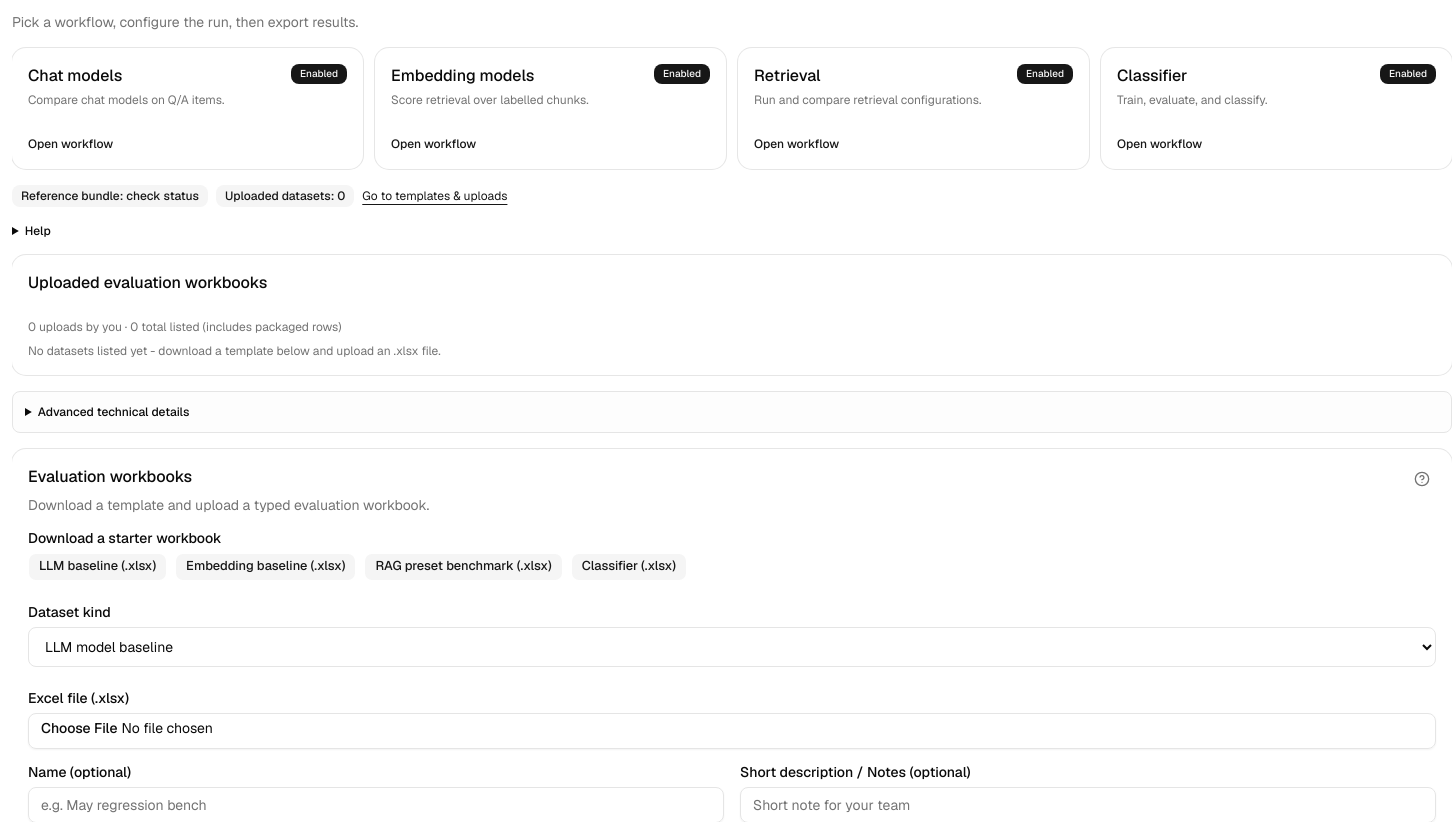
Test: LabOverviewPage › does not surface compose observability filenames in developer diagnostics
The width and height of the screenshot is (1452, 822).
Expected: the text "LLM & RAG evaluations" is not shown
Click the heading "Advanced technical details".
click(114, 412)  # box x1=38 y1=404 x2=189 y2=420
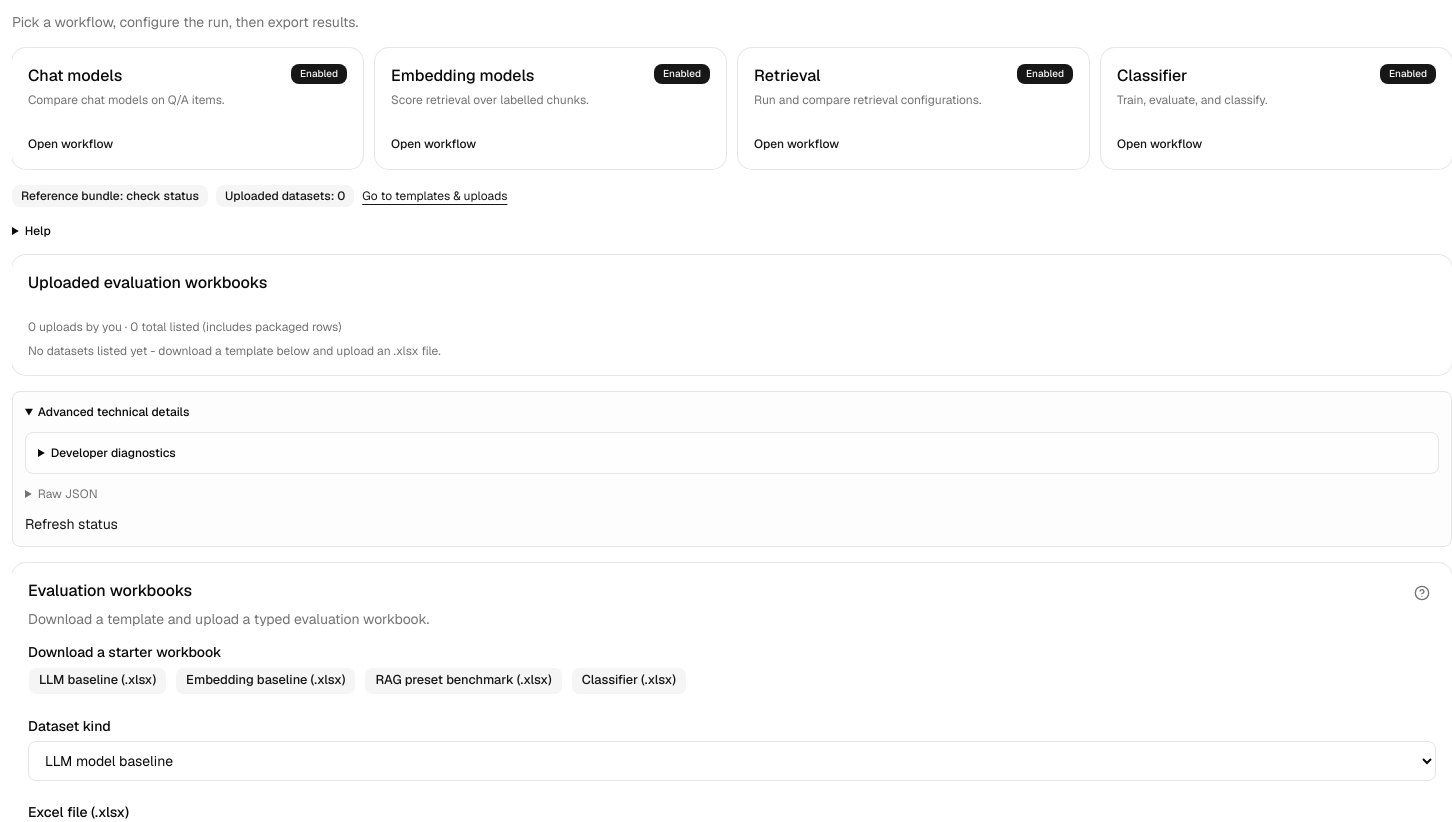
Click the heading "Developer diagnostics".
click(113, 452)  # box x1=51 y1=444 x2=176 y2=460
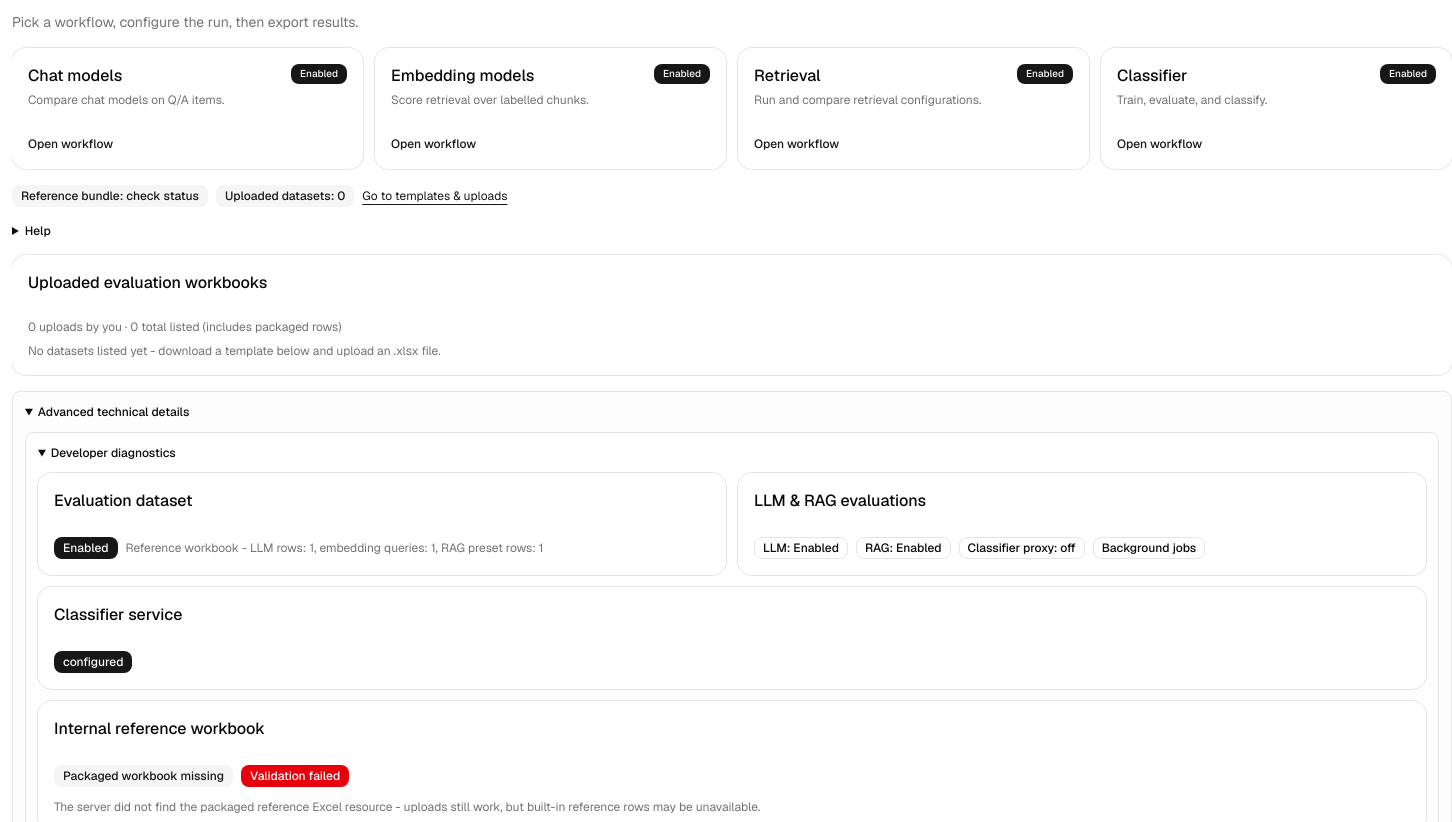
Expected: the text "compose.obs.yml" is not shown
Expected: the text "LLM & RAG evaluations" is shown, x1=754 y1=490 x2=926 y2=510
